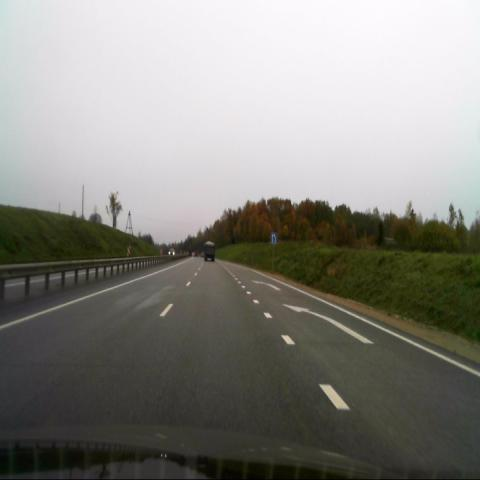5_15_5: (271, 232, 277, 244)
